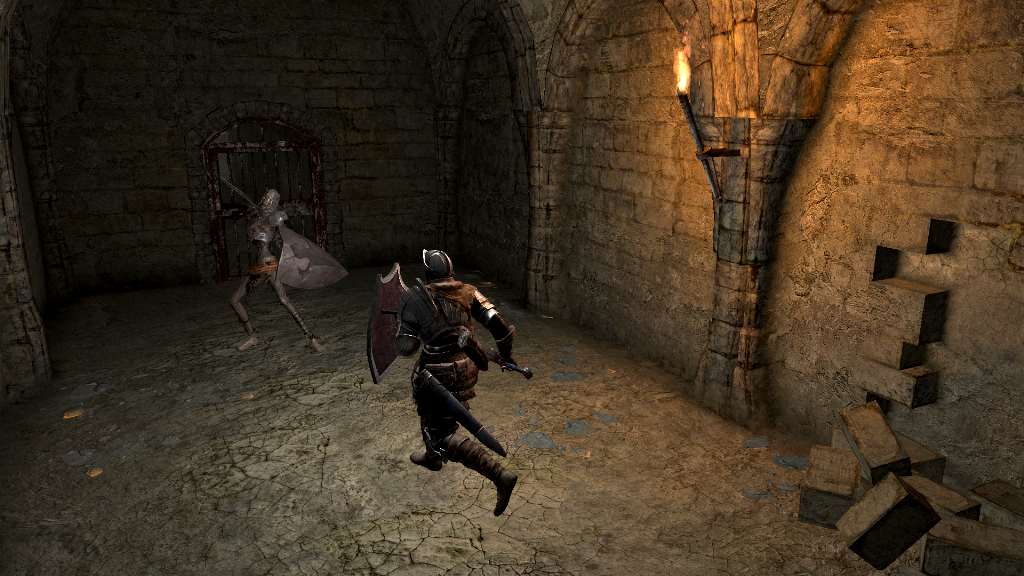player: (364, 246, 537, 518)
undeadSoldier: (230, 187, 327, 353)
